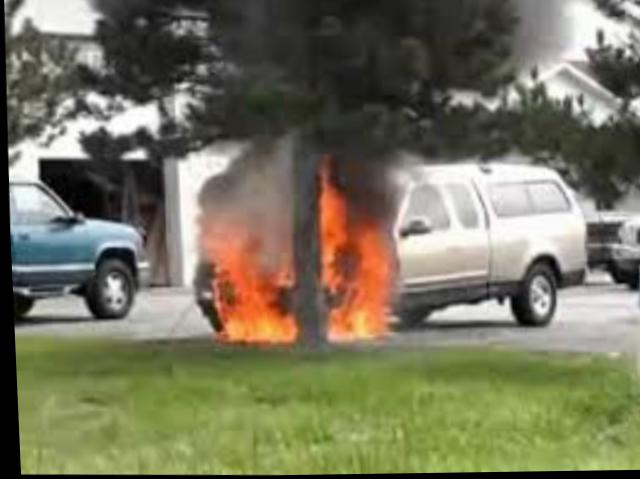fire: (186, 143, 410, 356)
